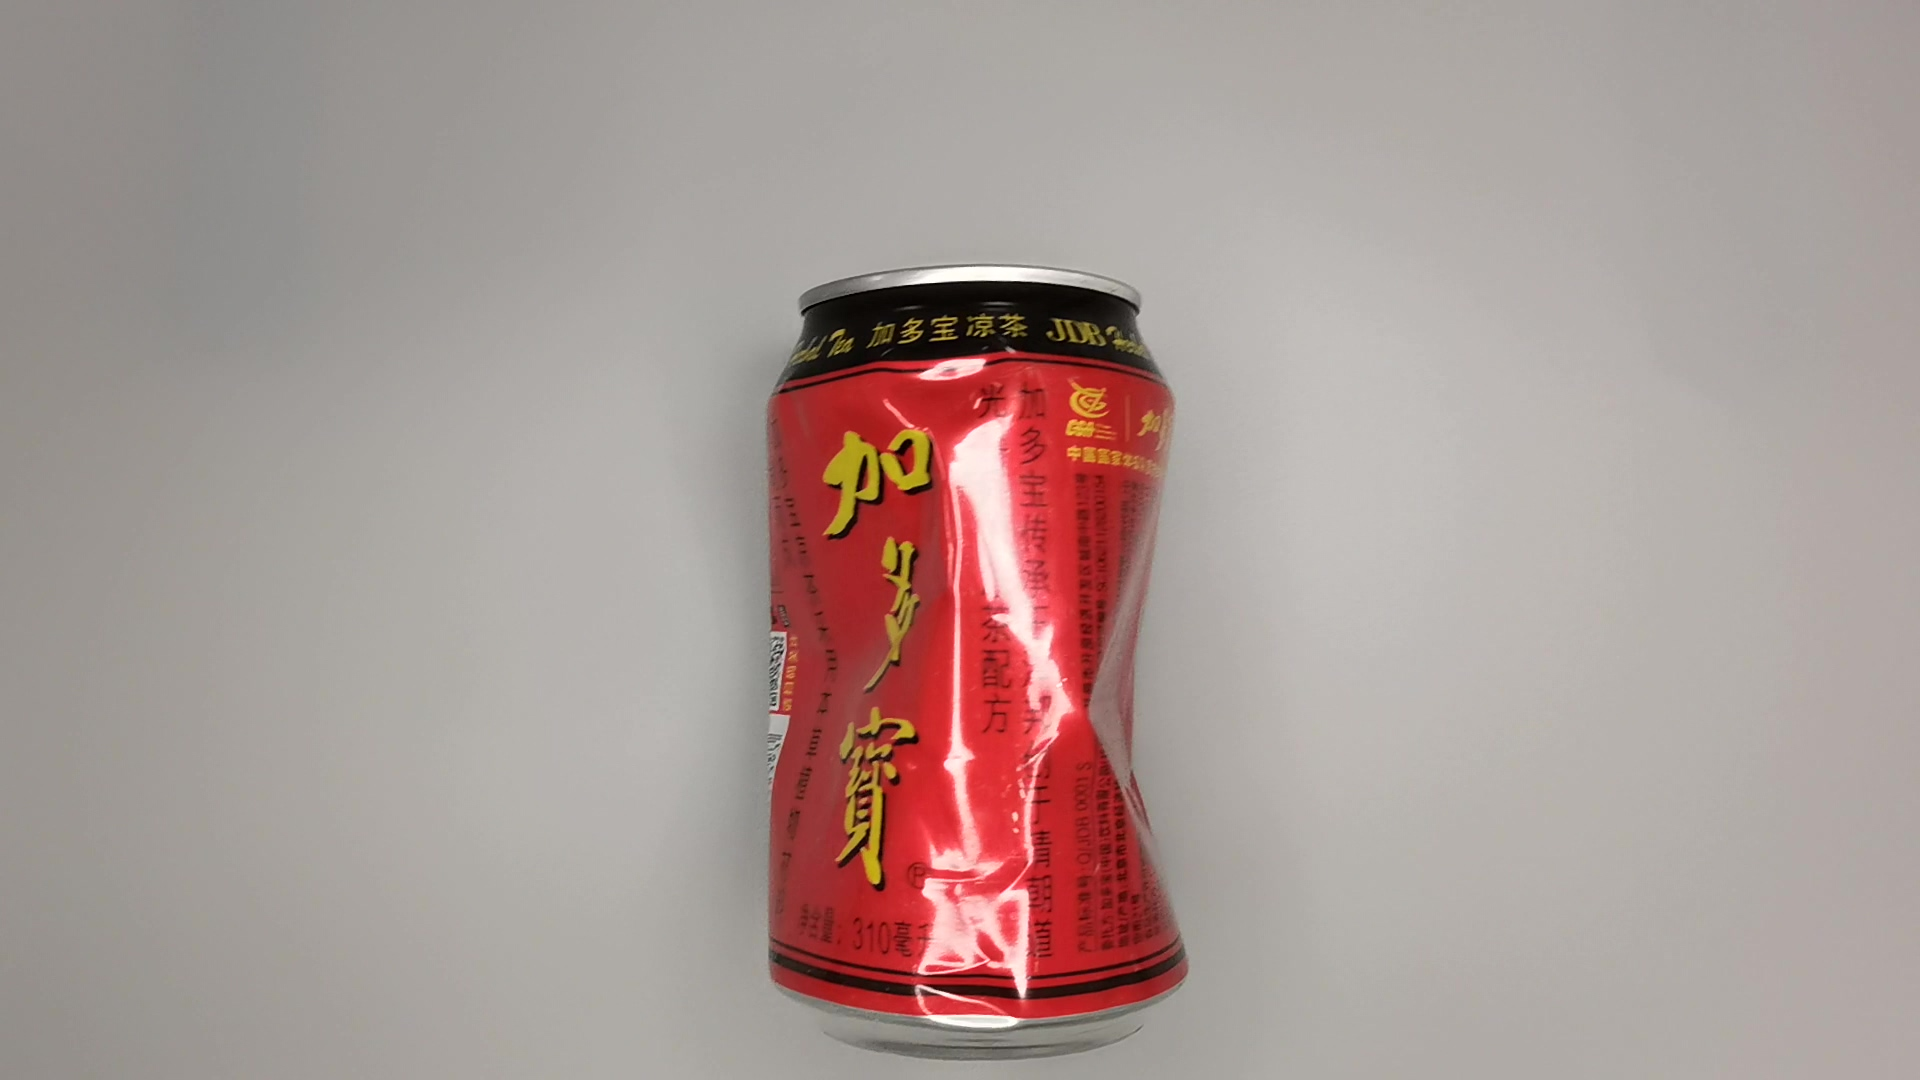can: (760, 261, 1211, 1054)
